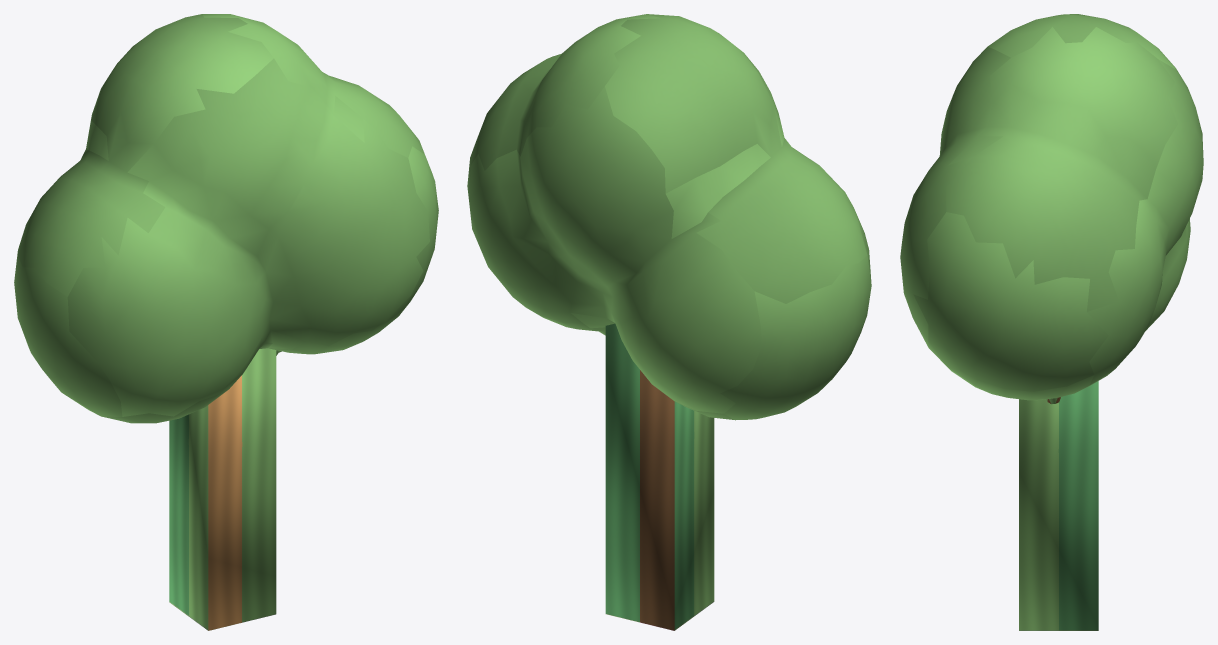
The model's file is tree_round_b.glb.
3 renders of one model, left to right at view 1: azimuth 30°, elevation 25°; view 2: azimuth 150°, elevation 25°; view 3: azimuth 270°, elevation 25°, orthographic.
Visible parts, largest first — view 1: lod0, col; view 2: lod0, col; view 3: lod0, col.
Boxes of the visible parts, <box> form: lod0: <box>14,14,438,423</box>; col: <box>169,348,276,630</box>; lod0: <box>467,14,871,420</box>; col: <box>605,323,714,630</box>; lod0: <box>900,14,1203,404</box>; col: <box>1019,381,1098,630</box>.
Size of what is drawn, in the model's own units: 3.32 by 4.88 by 2.28.
2 materials, 2 textured.
